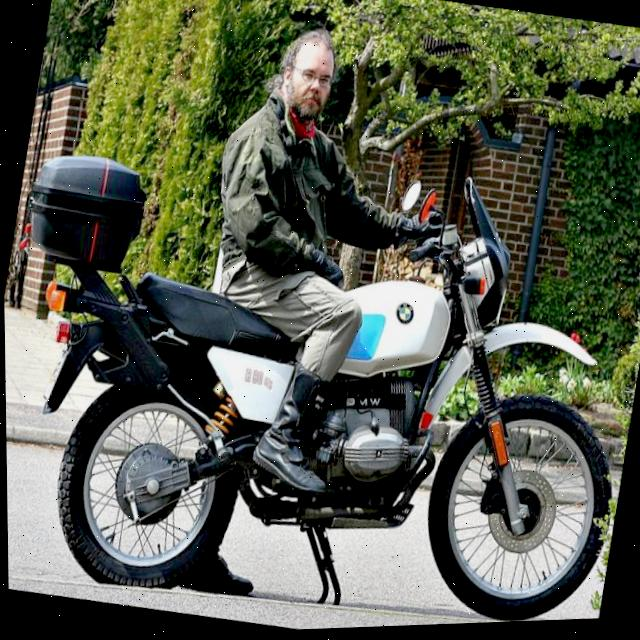motorcycle: (2, 86, 640, 640)
